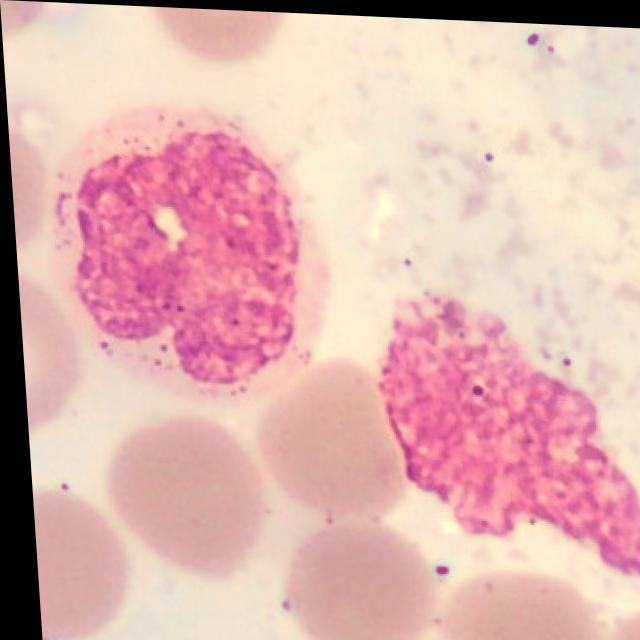Bastonete: (49, 105, 324, 396)
Restos celulares: (375, 291, 640, 573)
